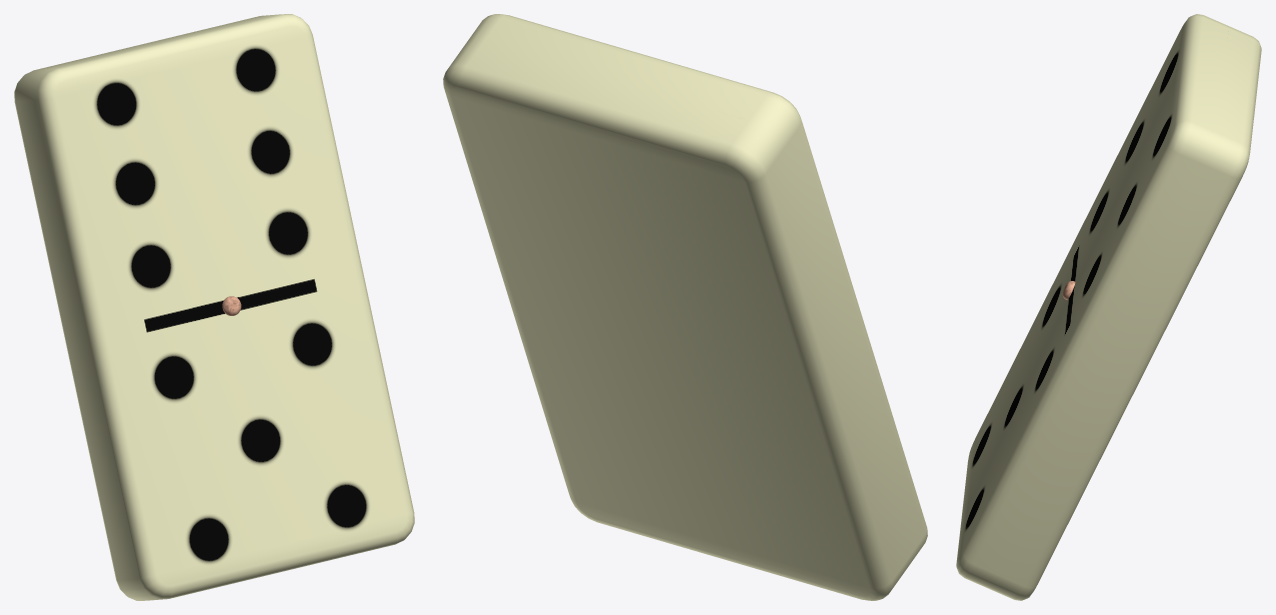
Rendered from Dominoes_tail.glb.
3 views of the same model, side by side, from view 1: azimuth 30°, elevation 25°; view 2: azimuth 150°, elevation 25°; view 3: azimuth 270°, elevation 25° (orthographic). The views are drawn at different scales.
Parts seen in each view (by area): view 1: Cube.001_1; view 2: Cube.001_1; view 3: Cube.001_1.
Boxes of the visible parts, <box> form: Cube.001_1: <box>14,14,414,600</box>; Cube.001_1: <box>443,14,927,600</box>; Cube.001_1: <box>956,14,1261,600</box>.
Size of the model in its own units: 2.02 by 3.4 by 1.96.
Materials: 2 (2 with a texture image).
